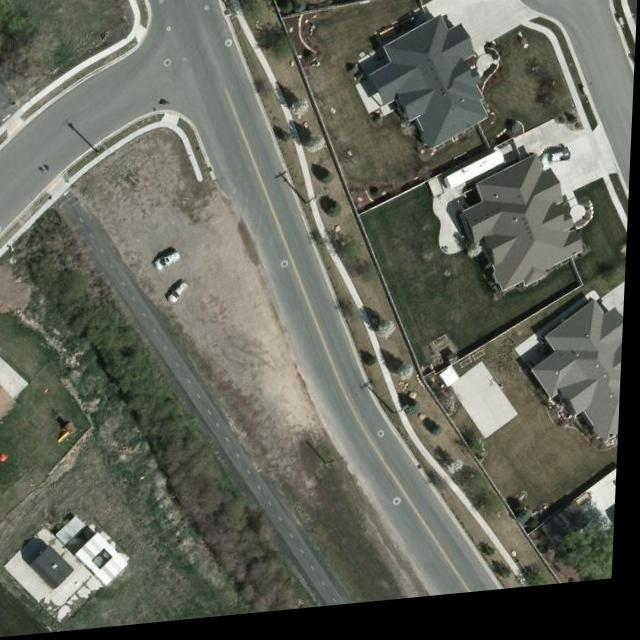vehicle: (541, 154, 576, 183), (155, 252, 187, 279), (167, 284, 195, 310)
